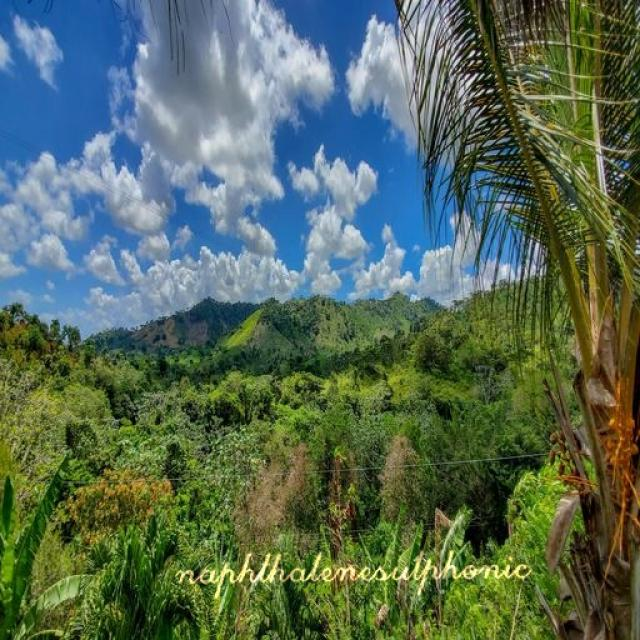watermark: (165, 546, 530, 590)
